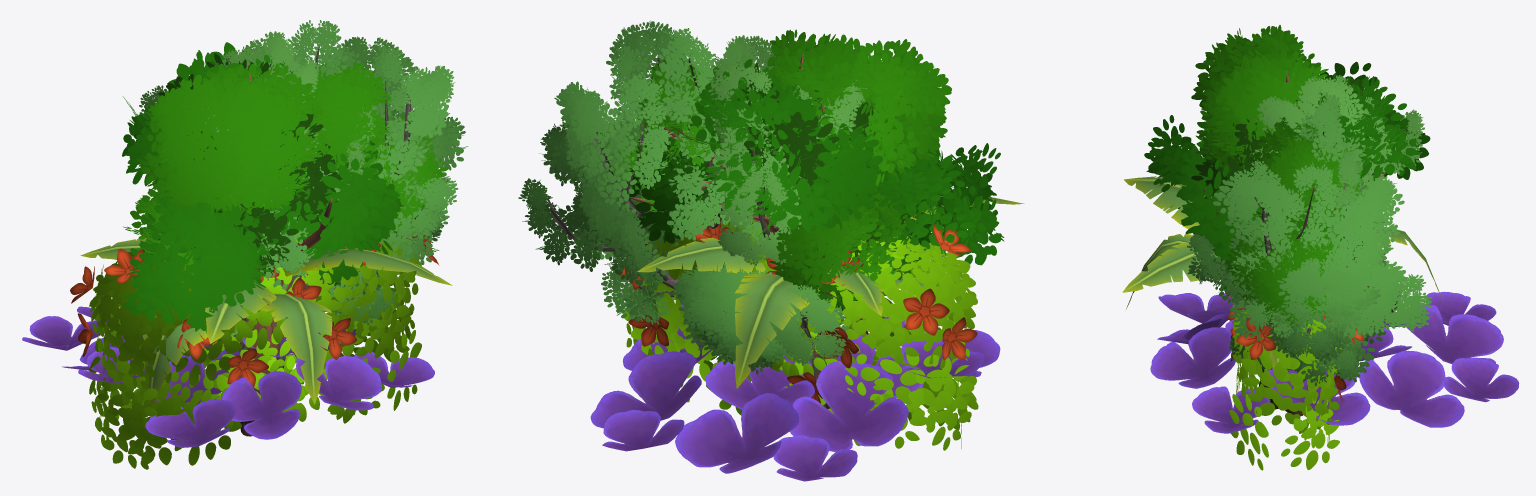
File: cascade.glb
3 views of the same model, side by side, from view 1: azimuth 30°, elevation 25°; view 2: azimuth 150°, elevation 25°; view 3: azimuth 270°, elevation 25° (orthographic). The views are drawn at different scales.
Visible parts, largest first — view 1: NormalTree_3 (×2), Bush_Large_Flowers (×2), NormalTree_5 (×2), TwistedTree_1 (×2), Plant_7_Big (×2), PalmTree_5, CommonTree_5 (×2), TwistedTree_4 (×2); view 2: TwistedTree_1 (×2), NormalTree_5 (×2), Plant_7_Big (×2), NormalTree_3 (×2), Bush_Large_Flowers (×2), TwistedTree_4 (×2), PalmTree_5, CommonTree_5 (×2); view 3: TwistedTree_1 (×2), Plant_7_Big (×2), NormalTree_3 (×2), NormalTree_5 (×2), Bush_Large_Flowers (×2), TwistedTree_4 (×2), PalmTree_5, CommonTree_5 (×2).
Part boxes in pixels (box(x1,y1,x2,y2)): NormalTree_3 (×2): box(123, 61, 448, 286); Bush_Large_Flowers (×2): box(70, 233, 439, 469); NormalTree_5 (×2): box(122, 42, 404, 332); TwistedTree_1 (×2): box(243, 20, 468, 424); Plant_7_Big (×2): box(22, 306, 434, 447); PalmTree_5: box(80, 235, 452, 407); CommonTree_5 (×2): box(158, 53, 342, 436); TwistedTree_4 (×2): box(139, 31, 367, 352); TwistedTree_1 (×2): box(518, 20, 827, 408); NormalTree_5 (×2): box(625, 59, 1004, 265); Plant_7_Big (×2): box(590, 304, 1000, 481); NormalTree_3 (×2): box(582, 29, 951, 310); Bush_Large_Flowers (×2): box(619, 201, 978, 450); TwistedTree_4 (×2): box(706, 35, 868, 380); PalmTree_5: box(637, 195, 1024, 388); CommonTree_5 (×2): box(737, 63, 881, 408); TwistedTree_1 (×2): box(1187, 94, 1431, 401); Plant_7_Big (×2): box(1150, 291, 1519, 433); NormalTree_3 (×2): box(1191, 25, 1362, 327); NormalTree_5 (×2): box(1144, 61, 1430, 299); Bush_Large_Flowers (×2): box(1224, 292, 1364, 470); TwistedTree_4 (×2): box(1237, 61, 1424, 266); PalmTree_5: box(1122, 176, 1443, 379); CommonTree_5 (×2): box(1191, 76, 1391, 416).
Size of the model in its own units: 1.19 by 1.09 by 1.18.
Materials: 13 (13 with a texture image).
